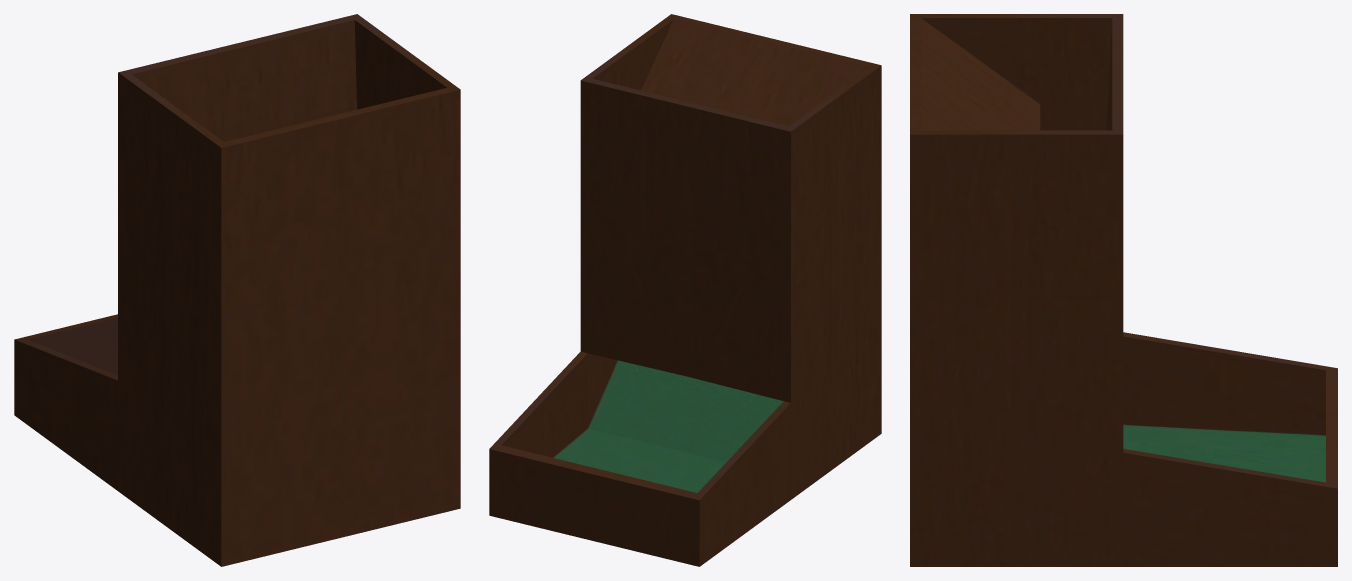
The model's file is model-f2fbfd.glb.
3 renders of one model, left to right at view 1: azimuth 30°, elevation 25°; view 2: azimuth 150°, elevation 25°; view 3: azimuth 270°, elevation 25°, orthographic. The views are drawn at different scales.
Size of the model in its own units: 2.4 by 4.02 by 3.6.
1 material, 1 textured.
